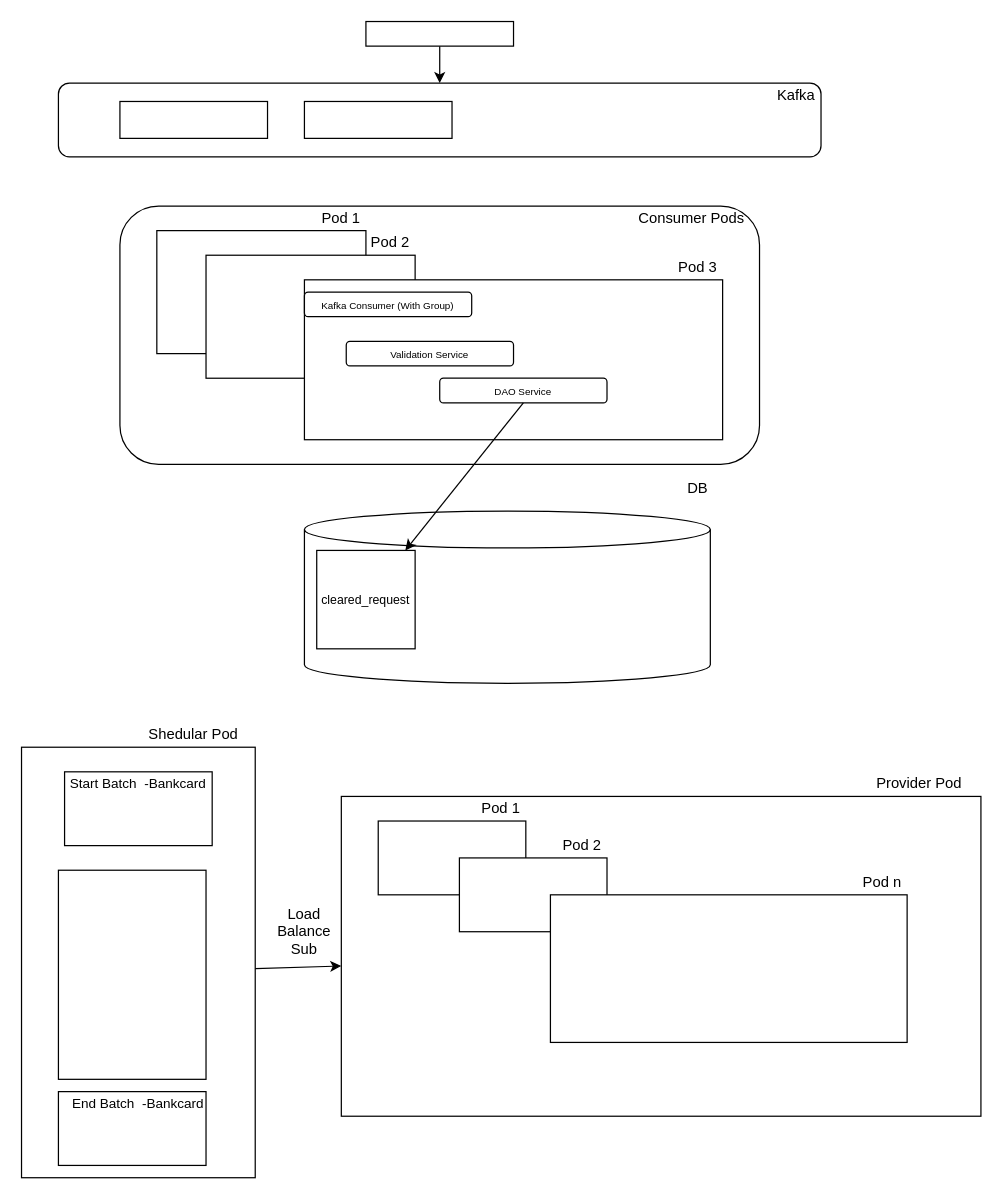
This 1002x1199 diagram has some shape labels left out. The shapes that lost their labels are listed below. From the top down, each one's centre as x and y in pixels, then its label:
At point (439, 33): "A2CT".
At point (131, 974): "Message Pub Service Banckcard".
At point (728, 968): "Message Sub Service Banckcard".
